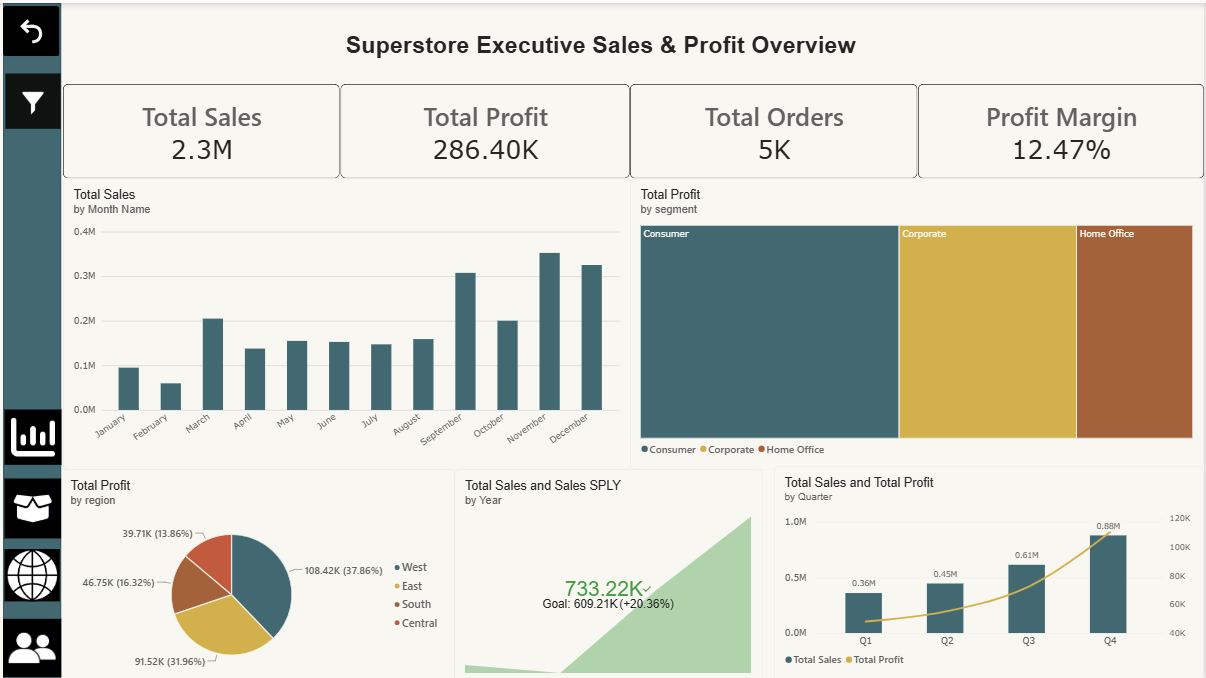

What the dashboard file says about the page in this screenshot:
{"tool":"powerbi","page":{"name":"Executive Summary","canvas":[1920,1080],"ordinal":1},"visuals":[{"type":"cardVisual","fields":{"Data":["_Measures.Total_Sales"]},"box":[105,130,440,150],"z":0},{"type":"cardVisual","fields":{"Data":["_Measures.Total_Profit"]},"box":[547.5,130,460,150],"z":1000},{"type":"cardVisual","fields":{"Data":["_Measures.Total_Orders"]},"box":[1007.5,130,457.5,150],"z":2000},{"type":"cardVisual","fields":{"Data":["_Measures.Profit Margin"]},"box":[1465,130,455,150],"z":3000},{"type":"clusteredColumnChart","fields":{"Category":["Calendar.Month_Name"],"Y":["_Measures.Total_Sales"]},"box":[105,280,902.5,462.5],"z":4000},{"type":"treemap","fields":{"Group":["dim_Customers.segment"],"Values":["_Measures.Total_Profit"]},"box":[1007.5,280,912.5,462.5],"z":5000},{"type":"kpi","fields":{"Goal":["_Measures.Sales SPLY"],"Indicator":["_Measures.Total_Sales"],"TrendLine":["Calendar.Year"]},"box":[727.7,742,489.1,341.2],"z":6000},{"type":"textbox","box":[0,45.3,1920.7,83.5],"z":7000},{"type":"lineClusteredColumnComboChart","fields":{"Category":["Calendar.Quaterly"],"Y":["_Measures.Total_Sales"],"Y2":["_Measures.Total_Profit"]},"box":[1236.5,738.2,683.5,340.3],"z":8000},{"type":"pieChart","fields":{"Category":["dim_Location.region"],"Y":["_Measures.Total_Profit"]},"box":[100.2,742,627.5,341.2],"z":9000},{"type":"shape","box":[10,0,92.5,1080],"z":10000},{"type":"image","box":[9.5,973.5,92.5,105],"z":11000},{"type":"image","box":[11.9,646.6,90.7,88.3],"z":12000},{"type":"image","box":[11.9,868.5,88.3,83.5],"z":13000},{"type":"image","box":[12.5,757.5,90,95],"z":14000},{"type":"actionButton","box":[9.5,4.8,90,80],"z":15000},{"type":"image","title":"Image","box":[11.9,112.1,90.7,88.3],"z":16000}]}

Visuals, with their boxes on the page's 1920x1080 design canvas (x1, y1, x2, y2). These are canvas units, not pixel positions in the 1206x678 screenshot, which may show the page scaled, cropped or inside an application window:
cardVisual - _Measures.Total_Sales: pyautogui.locateOnScreen(105, 130, 545, 280)
cardVisual - _Measures.Total_Profit: pyautogui.locateOnScreen(548, 130, 1008, 280)
cardVisual - _Measures.Total_Orders: pyautogui.locateOnScreen(1008, 130, 1465, 280)
cardVisual - _Measures.Profit Margin: pyautogui.locateOnScreen(1465, 130, 1920, 280)
clusteredColumnChart - Calendar.Month_Name x _Measures.Total_Sales: pyautogui.locateOnScreen(105, 280, 1008, 742)
treemap - dim_Customers.segment x _Measures.Total_Profit: pyautogui.locateOnScreen(1008, 280, 1920, 742)
kpi - _Measures.Sales SPLY x _Measures.Total_Sales: pyautogui.locateOnScreen(728, 742, 1217, 1083)
textbox: pyautogui.locateOnScreen(0, 45, 1921, 129)
lineClusteredColumnComboChart - Calendar.Quaterly x _Measures.Total_Sales: pyautogui.locateOnScreen(1236, 738, 1920, 1078)
pieChart - dim_Location.region x _Measures.Total_Profit: pyautogui.locateOnScreen(100, 742, 728, 1083)
shape: pyautogui.locateOnScreen(10, 0, 102, 1080)
image: pyautogui.locateOnScreen(10, 974, 102, 1078)
image: pyautogui.locateOnScreen(12, 647, 103, 735)
image: pyautogui.locateOnScreen(12, 868, 100, 952)
image: pyautogui.locateOnScreen(12, 758, 102, 852)
actionButton: pyautogui.locateOnScreen(10, 5, 100, 85)
"Image" image: pyautogui.locateOnScreen(12, 112, 103, 200)
